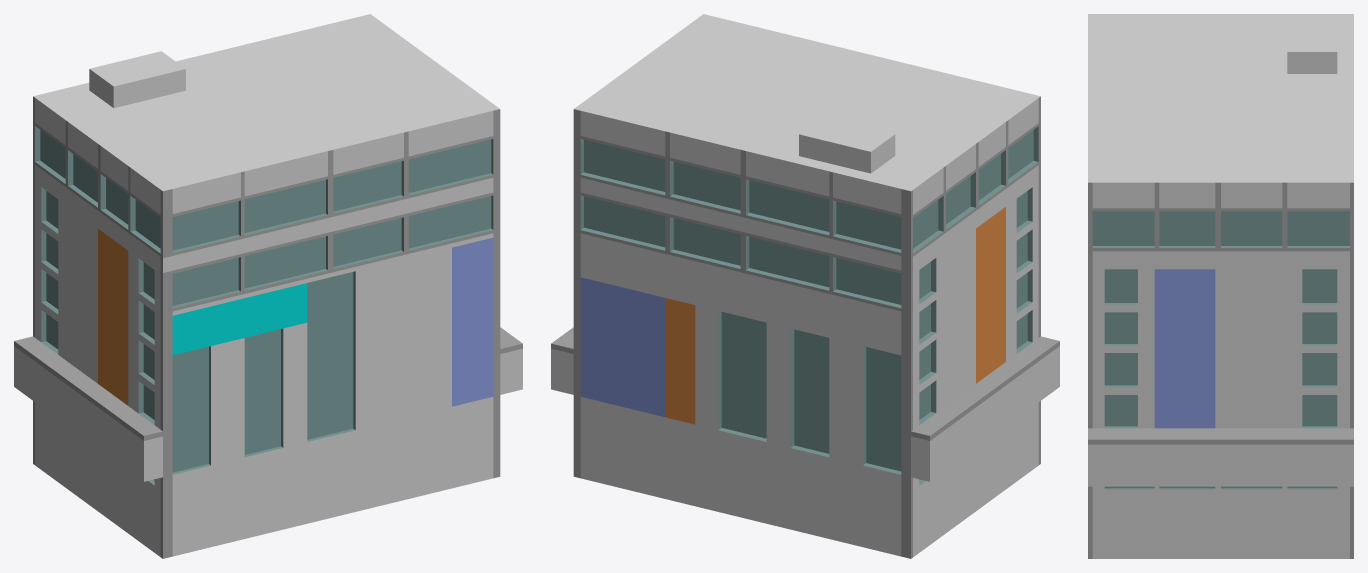
File: haus_2.fbx
3 renders of one model, left to right at view 1: azimuth 30°, elevation 25°; view 2: azimuth 150°, elevation 25°; view 3: azimuth 270°, elevation 25°, orthographic. The views are drawn at different scales.
Visible parts, largest first — view 1: pCube1; view 2: pCube1; view 3: pCube1.
Part boxes in pixels (bbox=[...]): pCube1: bbox=[14, 14, 522, 558]; pCube1: bbox=[551, 14, 1059, 558]; pCube1: bbox=[1088, 14, 1353, 558].
Size of the model in its own units: 23.59 by 23.16 by 14.
